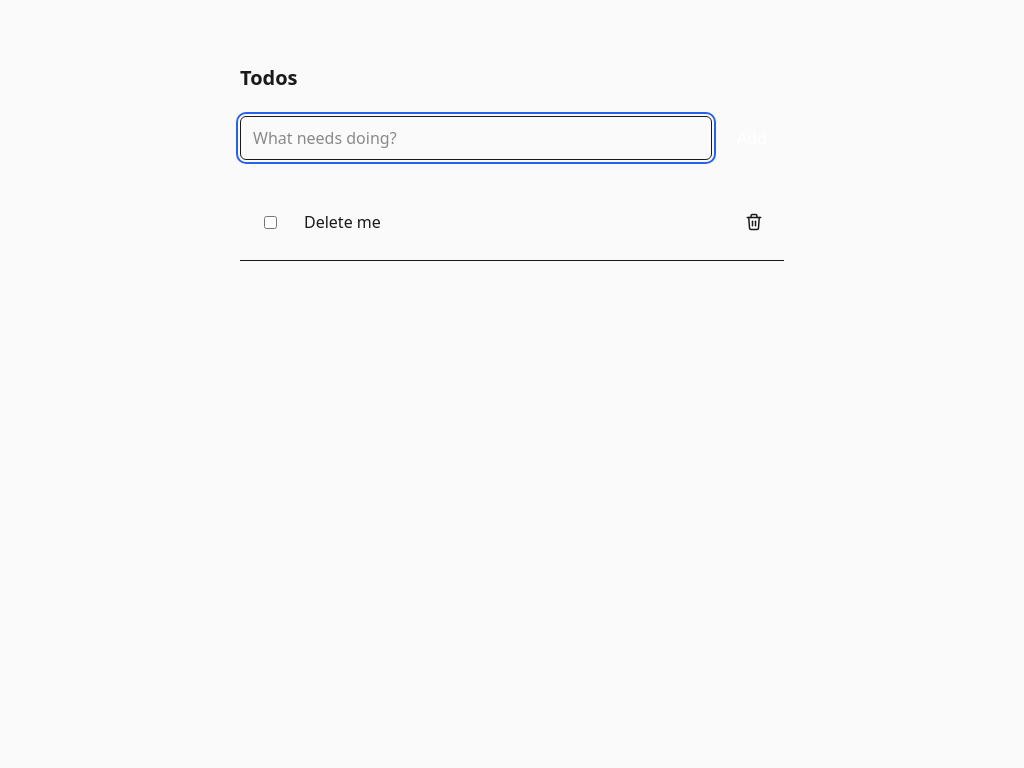
Test case: <App /> integration — full tree with mocked fetch › clicking a row delete icon opens the modal with Cancel focused
Expected: the text "Delete me" is shown, [304,211,381,233]
Click the button named "Delete todo: Delete me" at (754, 222), box [732,200,776,244]
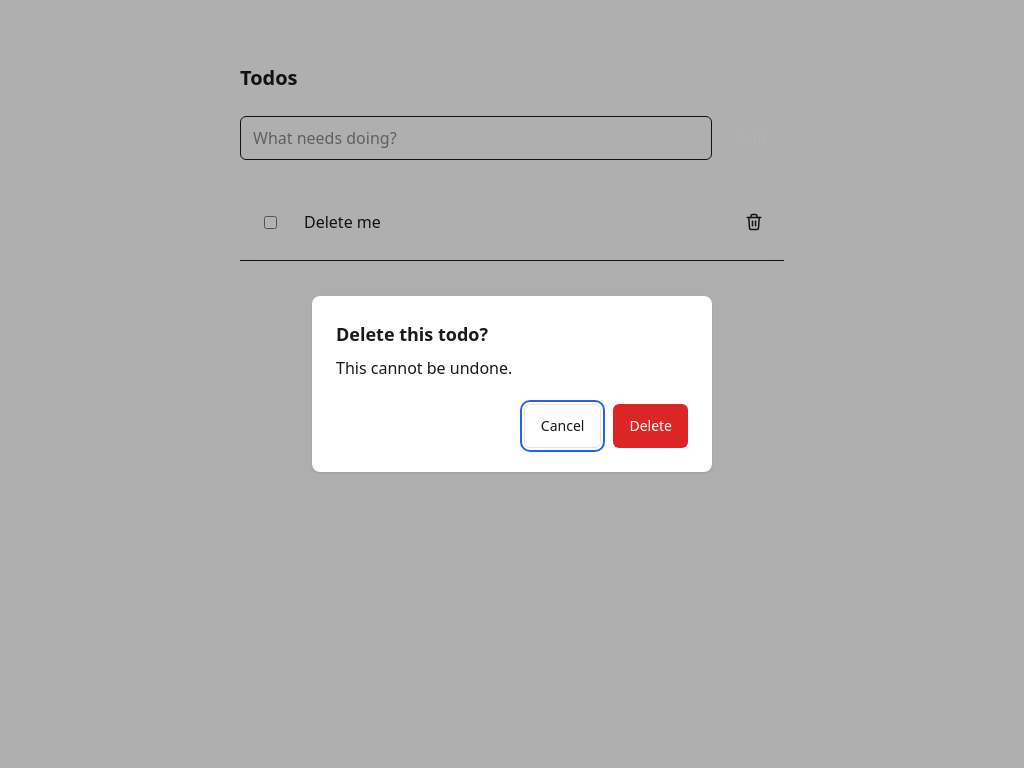
Now the dialog is shown, box [312,296,712,472]
Now the heading "Delete this todo?" is shown, box [336,322,488,346]
